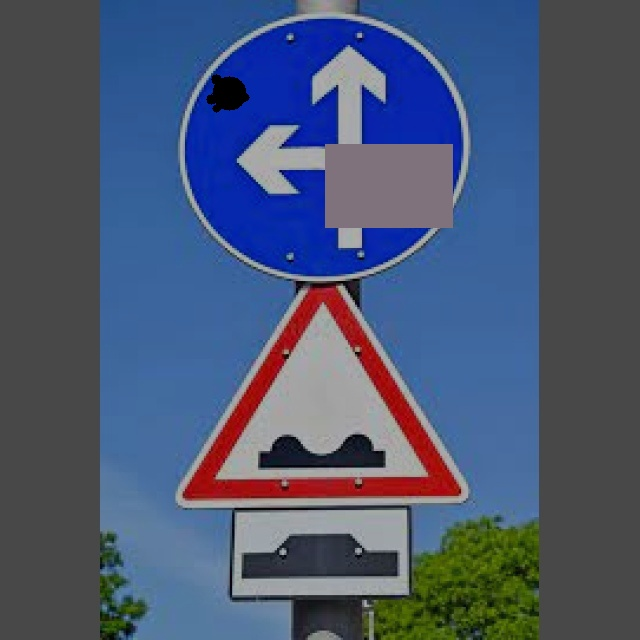Compulsory_Ahead_or_Turn_Left: (171, 19, 484, 283)
